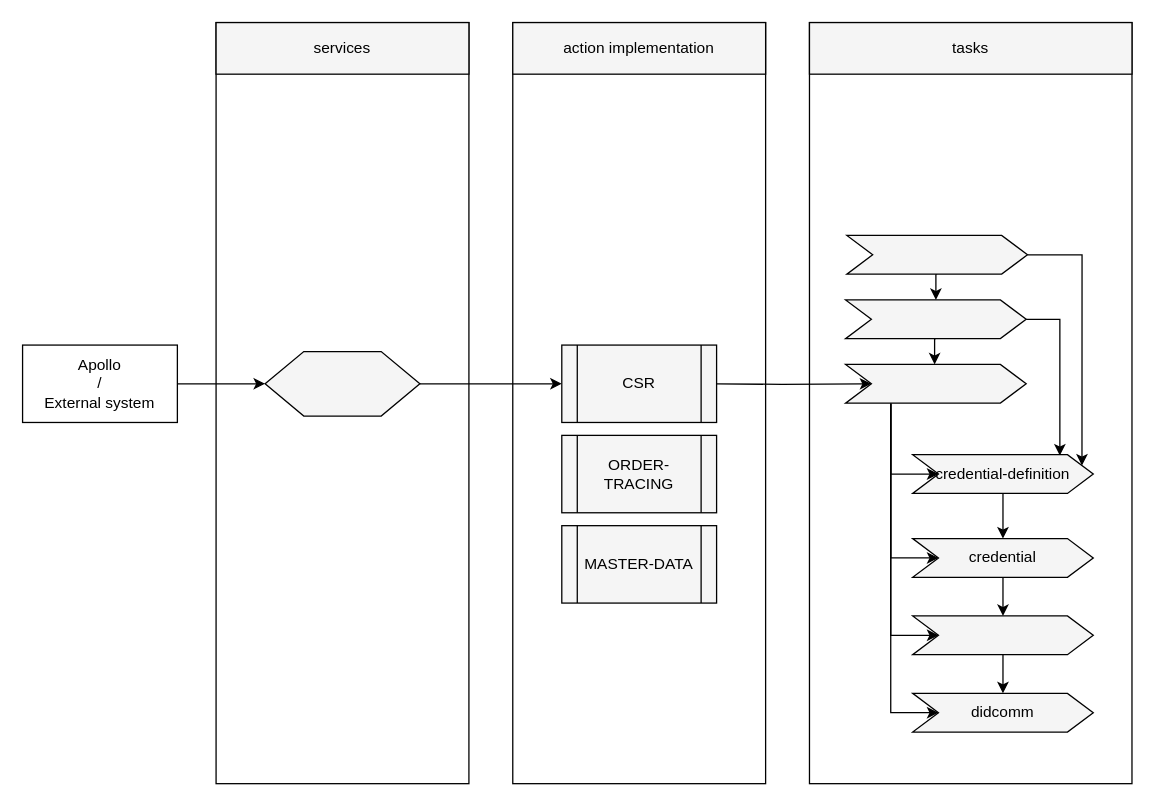
This 1155x806 diagram has some shape labels left out. The box of each missing label's shape, as (x1, y1, x2, y2) in pixels:
action service: (264, 350, 420, 416)
credential exchange: (844, 363, 1026, 403)
identity: (846, 234, 1027, 274)
presentation: (911, 615, 1093, 655)
schema: (844, 299, 1026, 339)
